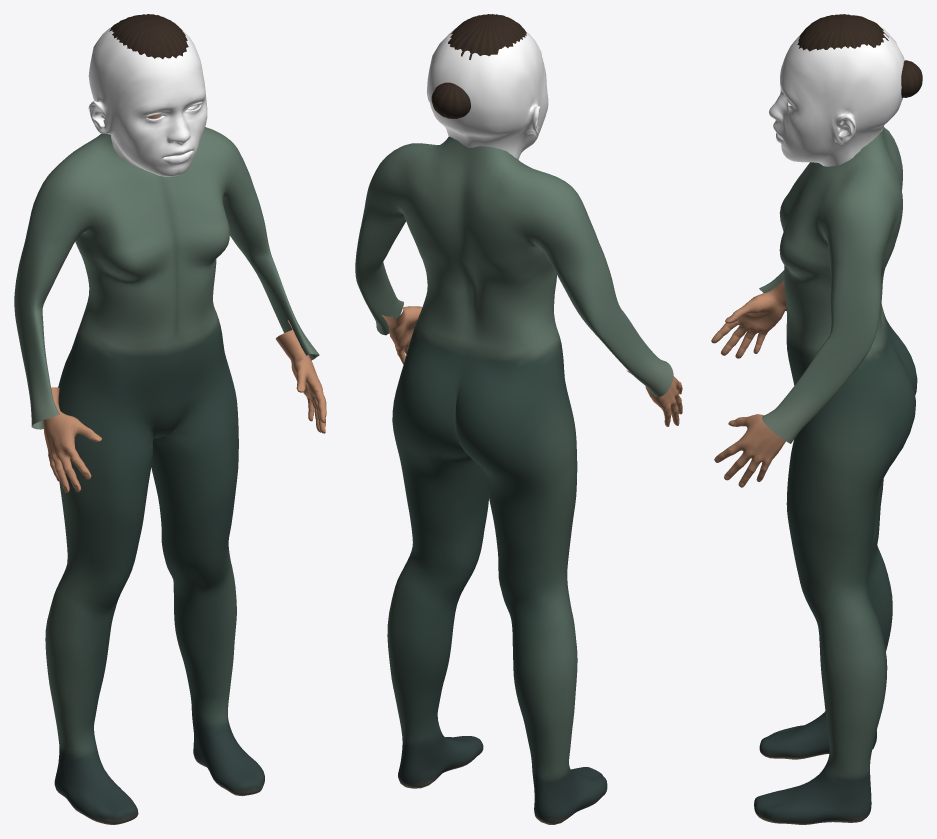
The model's file is adult-woman.glb.
The picture shows the model from 3 angles, left to right: view 1: azimuth 30°, elevation 25°; view 2: azimuth 150°, elevation 25°; view 3: azimuth 270°, elevation 25°; orthographic projection. The views are drawn at different scales.
Parts seen in each view (by area): view 1: Clothing, Cutaway, Hands, Hair cap; view 2: Clothing, Cutaway, Hair cap, Hands, Low bun; view 3: Clothing, Cutaway, Hands, Hair cap, Low bun.
Boxes of the visible parts, x1=… form: Clothing: x1=14, y1=127, x2=319, y2=824; Cutaway: x1=88, y1=27, x2=207, y2=176; Hands: x1=43, y1=320, x2=326, y2=492; Hair cap: x1=109, y1=14, x2=188, y2=58; Clothing: x1=355, y1=136, x2=673, y2=824; Cutaway: x1=427, y1=28, x2=548, y2=159; Hair cap: x1=448, y1=14, x2=526, y2=59; Hands: x1=381, y1=306, x2=682, y2=426; Low bun: x1=431, y1=82, x2=470, y2=118; Clothing: x1=754, y1=127, x2=917, y2=824; Cutaway: x1=769, y1=27, x2=904, y2=166; Hands: x1=711, y1=280, x2=786, y2=487; Hair cap: x1=797, y1=14, x2=888, y2=51; Low bun: x1=901, y1=60, x2=922, y2=97.
Size of the model in its own units: 2.34 by 5.99 by 1.5.
